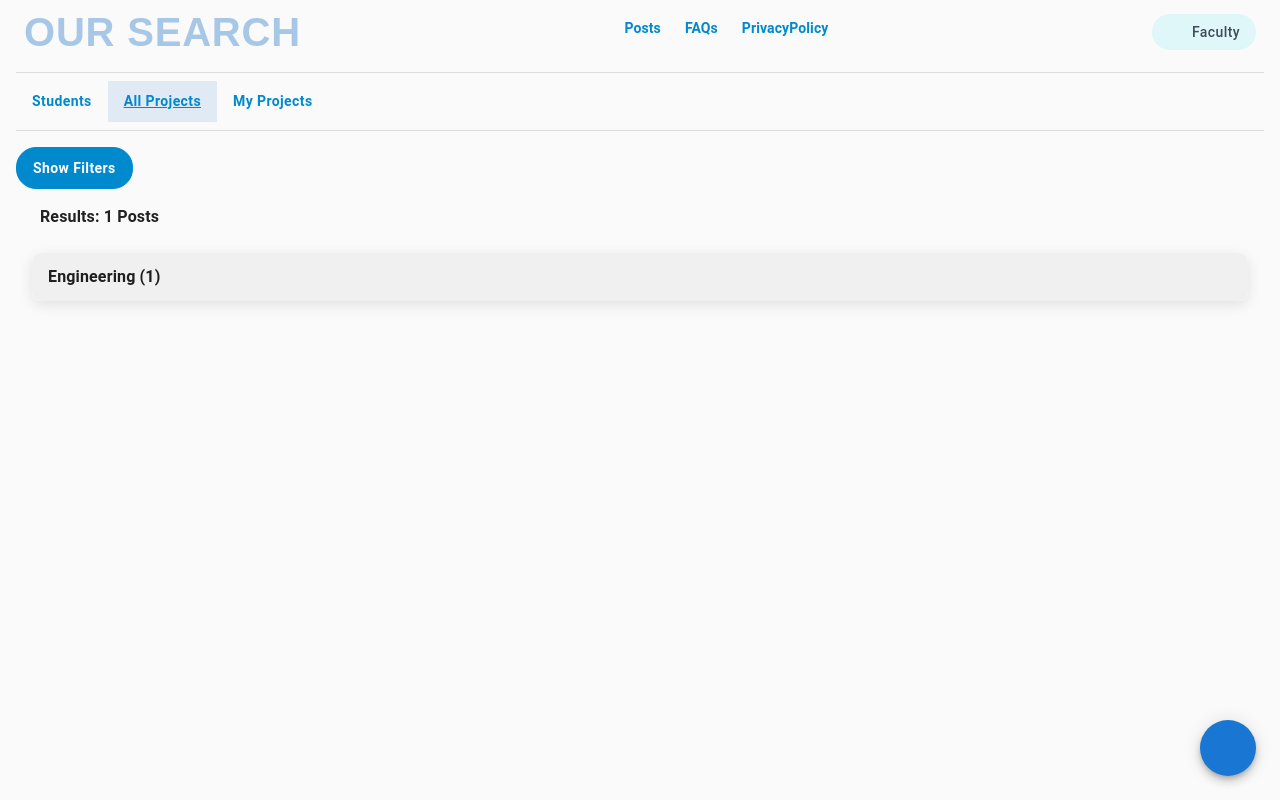
Test: Search Bar E2E › shows the search field
Click the button "Show Filters".
click(75, 169)  # box [16,147,133,190]
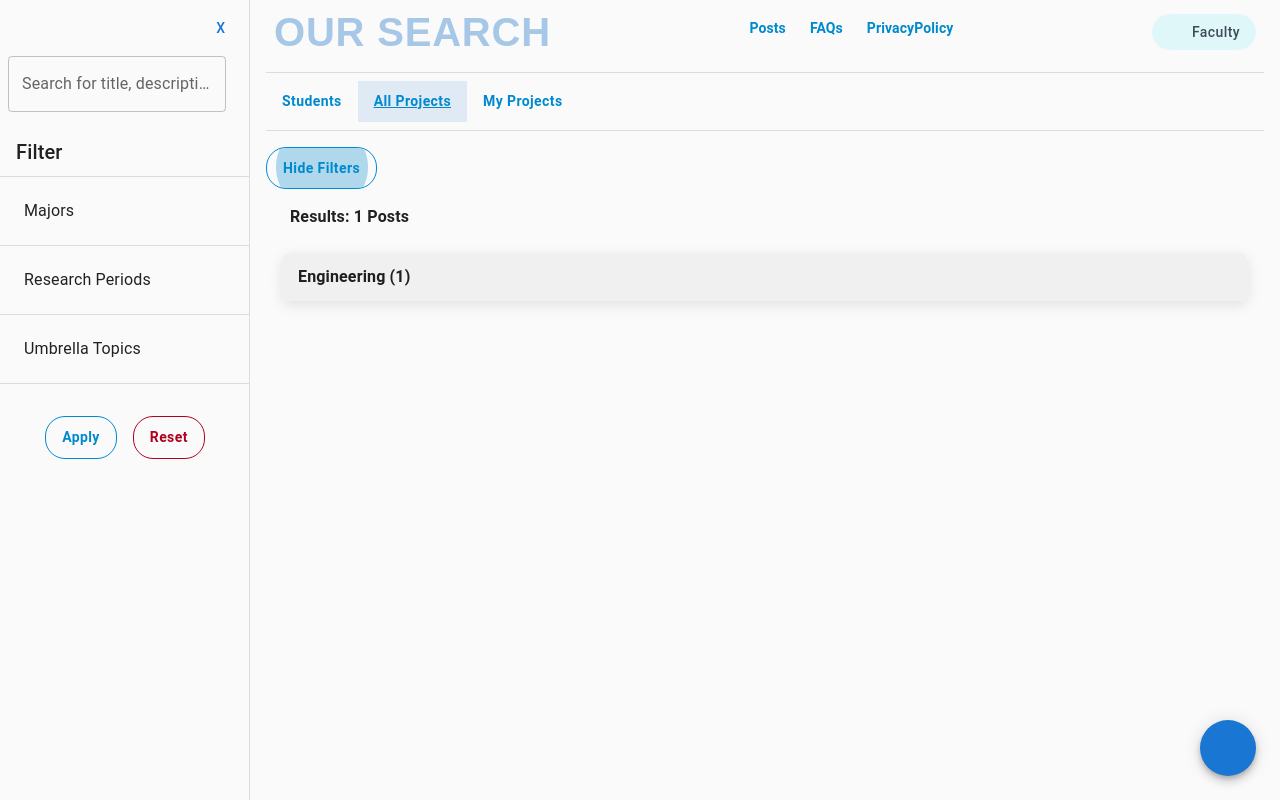
Check: the field with id "searchField" is shown, box [8,56,188,112]
